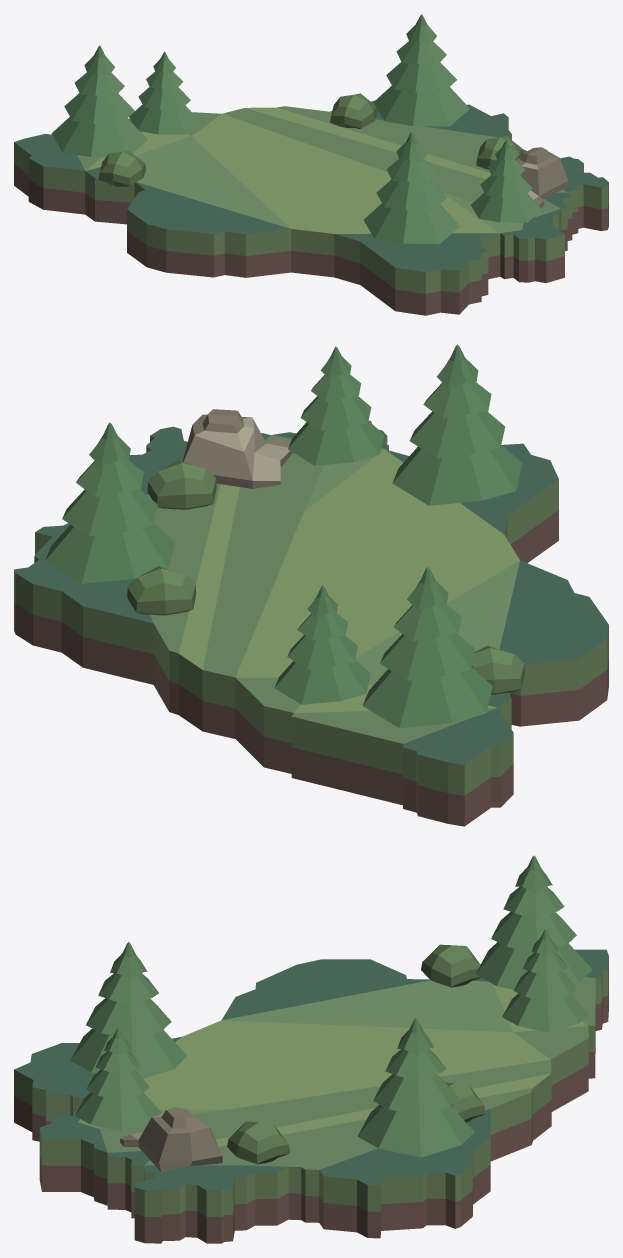
File: ziryanka.gltf
The picture shows the model from 3 angles, top to bottom: view 1: azimuth 30°, elevation 25°; view 2: azimuth 150°, elevation 25°; view 3: azimuth 270°, elevation 25°; orthographic projection. The views are drawn at different scales.
Visible parts, largest first — view 1: зырянка; view 2: зырянка; view 3: зырянка.
Part boxes in pixels (x1,y1,x2,y2): зырянка: (14,14,608,315); зырянка: (14,344,608,826); зырянка: (14,855,608,1243).
Bounding box in the file's own units: 1.54 × 0.5325 × 1.59.
